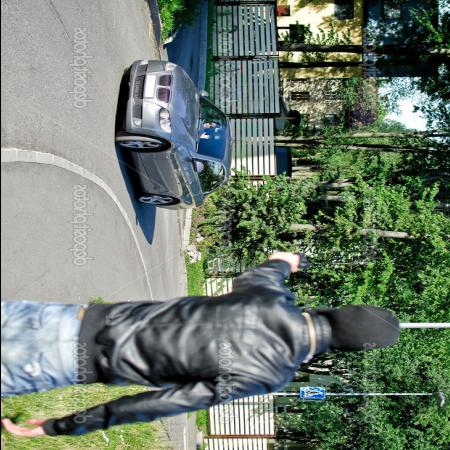Pistol: (258, 242, 316, 277)
